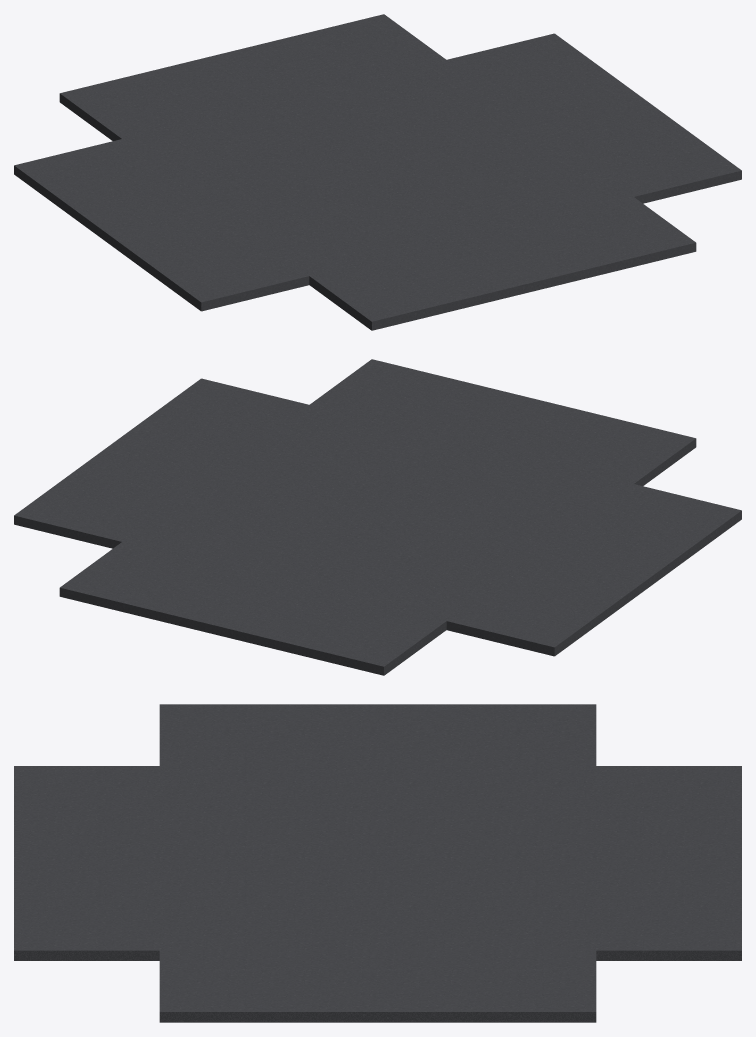
The model's file is MS_RD_04_Crossroads.glb.
3 renders of one model, top to bottom at view 1: azimuth 30°, elevation 25°; view 2: azimuth 150°, elevation 25°; view 3: azimuth 270°, elevation 25°, orthographic. The views are drawn at different scales.
Visible parts, largest first — view 1: Asphalt.003; view 2: Asphalt.003; view 3: Asphalt.003.
Part boxes in pixels (x1=…): Asphalt.003: x1=14, y1=14, x2=741, y2=330; Asphalt.003: x1=14, y1=359, x2=741, y2=675; Asphalt.003: x1=14, y1=704, x2=741, y2=1022.
Bounding box in the file's own units: 10 × 0.16 × 10.
1 material, 1 textured.
